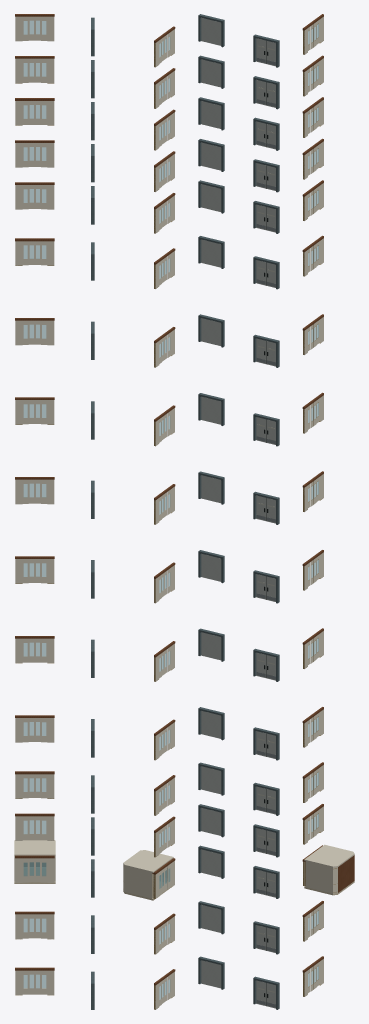
File: AST-STF-G3-046.glb
3 views of the same model, side by side, from view 1: azimuth 90°, elevation 25°; view 2: azimuth 150°, elevation 25°; view 3: azimuth 330°, elevation 25° (orthographic).
Parts seen in each view (by area): view 1: SourceCabinAtD03__CAB_ivory_enamel, Landing_D09__LIFT_fixed_ivory_enamel, Landing_D11__LIFT_fixed_ivory_enamel, Landing_D16__LIFT_fixed_ivory_enamel, Landing_D17__LIFT_fixed_ivory_enamel, Landing_D02__LIFT_fixed_ivory_enamel, Landing_D03__LIFT_fixed_ivory_enamel, Landing_D04__LIFT_fixed_ivory_enamel, Landing_D05__LIFT_fixed_ivory_enamel, Landing_D06__LIFT_fixed_ivory_enamel, Landing_D08__LIFT_fixed_ivory_enamel, Landing_D10__LIFT_fixed_ivory_enamel (+6 smaller); view 2: SourceCabinAtD03__CAB_ivory_enamel; view 3: SourceCabinAtD03__CAB_ivory_enamel, SourceCabinAtD03__CAB_warm_walnut.
Boxes of the visible parts, bbox=[...] form: SourceCabinAtD03__CAB_ivory_enamel: bbox=[14, 840, 55, 881]; Landing_D09__LIFT_fixed_ivory_enamel: bbox=[15, 479, 54, 504]; Landing_D11__LIFT_fixed_ivory_enamel: bbox=[15, 320, 54, 345]; Landing_D16__LIFT_fixed_ivory_enamel: bbox=[15, 58, 54, 83]; Landing_D17__LIFT_fixed_ivory_enamel: bbox=[15, 16, 54, 41]; Landing_D02__LIFT_fixed_ivory_enamel: bbox=[15, 914, 54, 939]; Landing_D03__LIFT_fixed_ivory_enamel: bbox=[15, 858, 54, 882]; Landing_D04__LIFT_fixed_ivory_enamel: bbox=[15, 816, 54, 840]; Landing_D05__LIFT_fixed_ivory_enamel: bbox=[15, 774, 54, 798]; Landing_D06__LIFT_fixed_ivory_enamel: bbox=[15, 718, 54, 742]; Landing_D08__LIFT_fixed_ivory_enamel: bbox=[15, 559, 54, 583]; Landing_D10__LIFT_fixed_ivory_enamel: bbox=[15, 400, 54, 424]; SourceCabinAtD03__CAB_ivory_enamel: bbox=[123, 850, 173, 898]; SourceCabinAtD03__CAB_ivory_enamel: bbox=[304, 844, 354, 893]; SourceCabinAtD03__CAB_warm_walnut: bbox=[338, 855, 354, 892].
Bounding box in the file's own units: 7.18 × 105 × 7.8.
16 materials, 14 textured.
